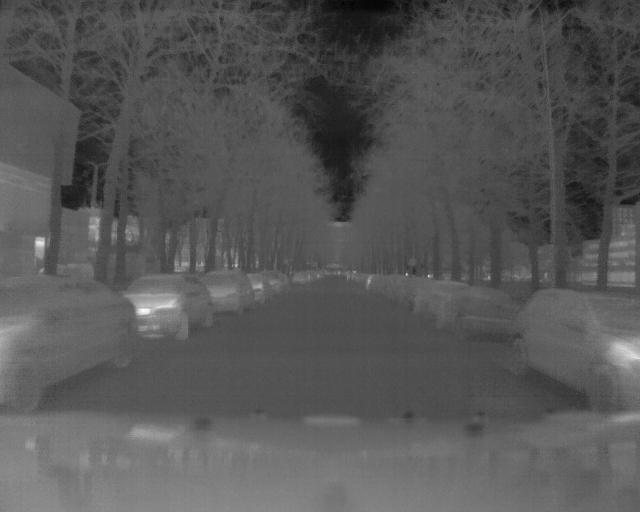car: (1, 274, 140, 411), (509, 285, 640, 414), (129, 271, 217, 340), (440, 286, 507, 343), (204, 265, 255, 315)
